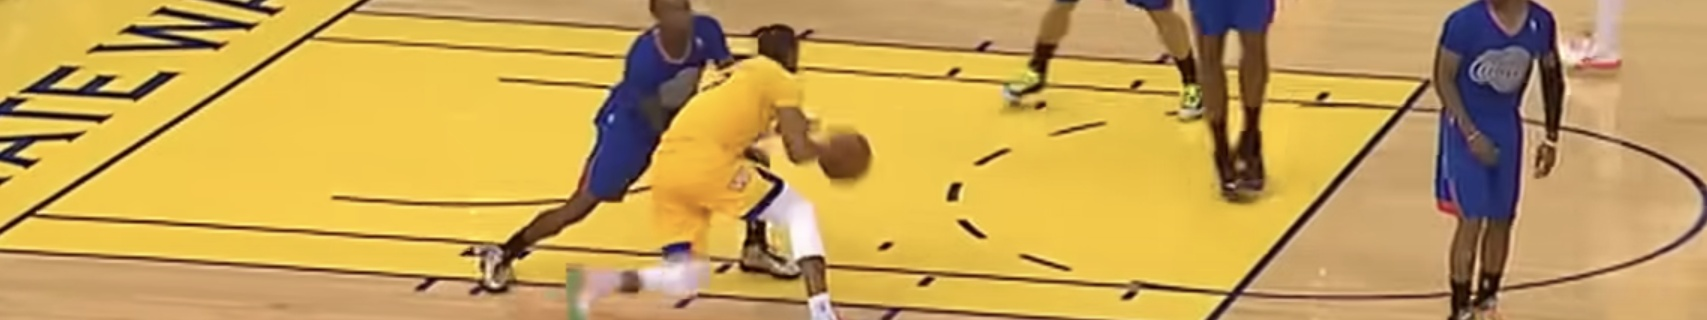endLine: (1, 10, 356, 231)
freeThrow: (1215, 79, 1428, 319)
lane: (356, 8, 1429, 79), (3, 251, 1104, 320)
